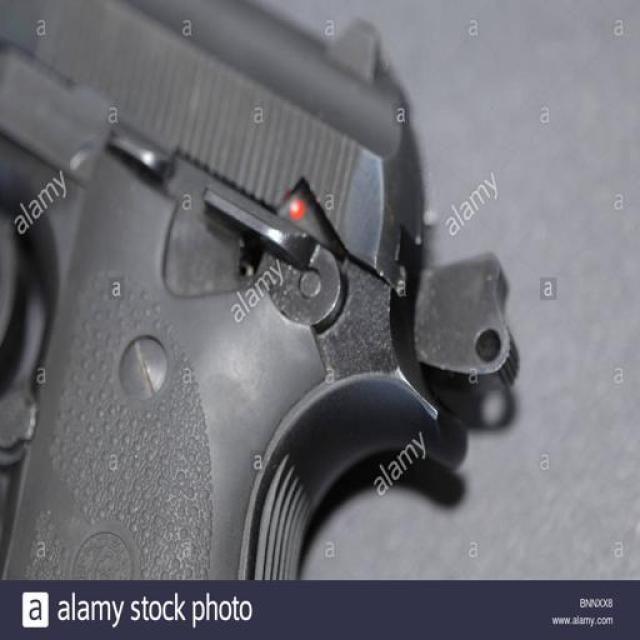pistol: (1, 1, 516, 581)
